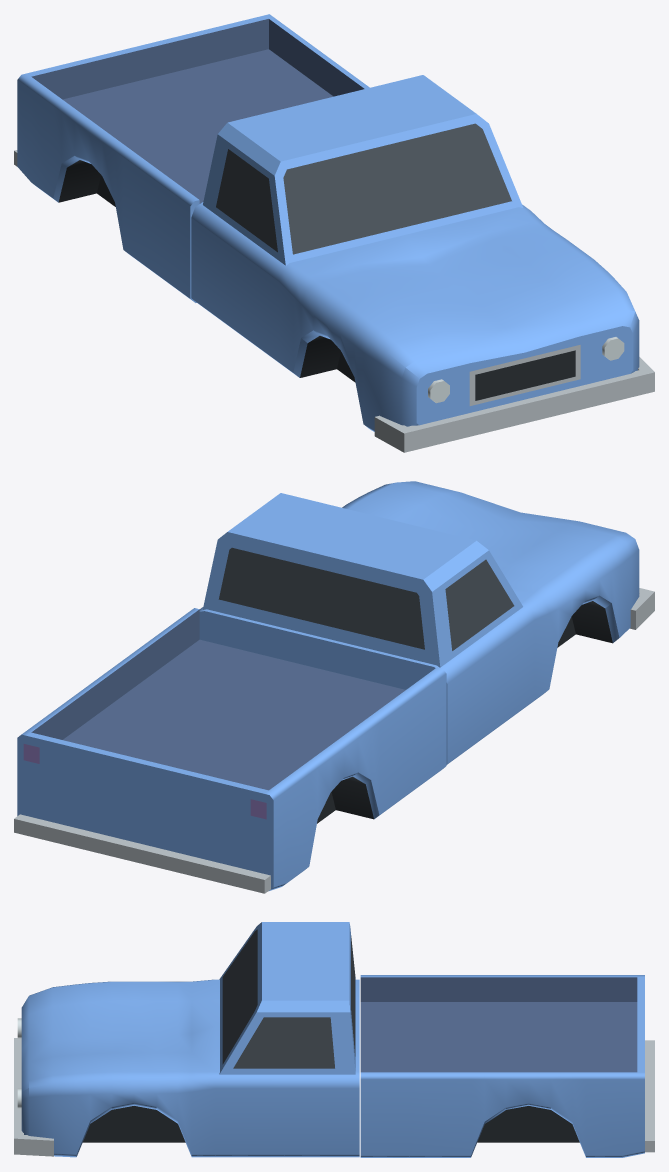
File: SM_Car_Pickup.obj
3 renders of one model, top to bottom at view 1: azimuth 30°, elevation 25°; view 2: azimuth 150°, elevation 25°; view 3: azimuth 270°, elevation 25°, orthographic. The views are drawn at different scales.
Visible parts, largest first — view 1: Body; view 2: Body; view 3: Body.
Boxes of the visible parts, x1=… form: Body: x1=14, y1=14, x2=654, y2=452; Body: x1=14, y1=481, x2=654, y2=893; Body: x1=14, y1=922, x2=654, y2=1157.
Bounding box in the file's own units: 1.98 × 1.3 × 5.12.
